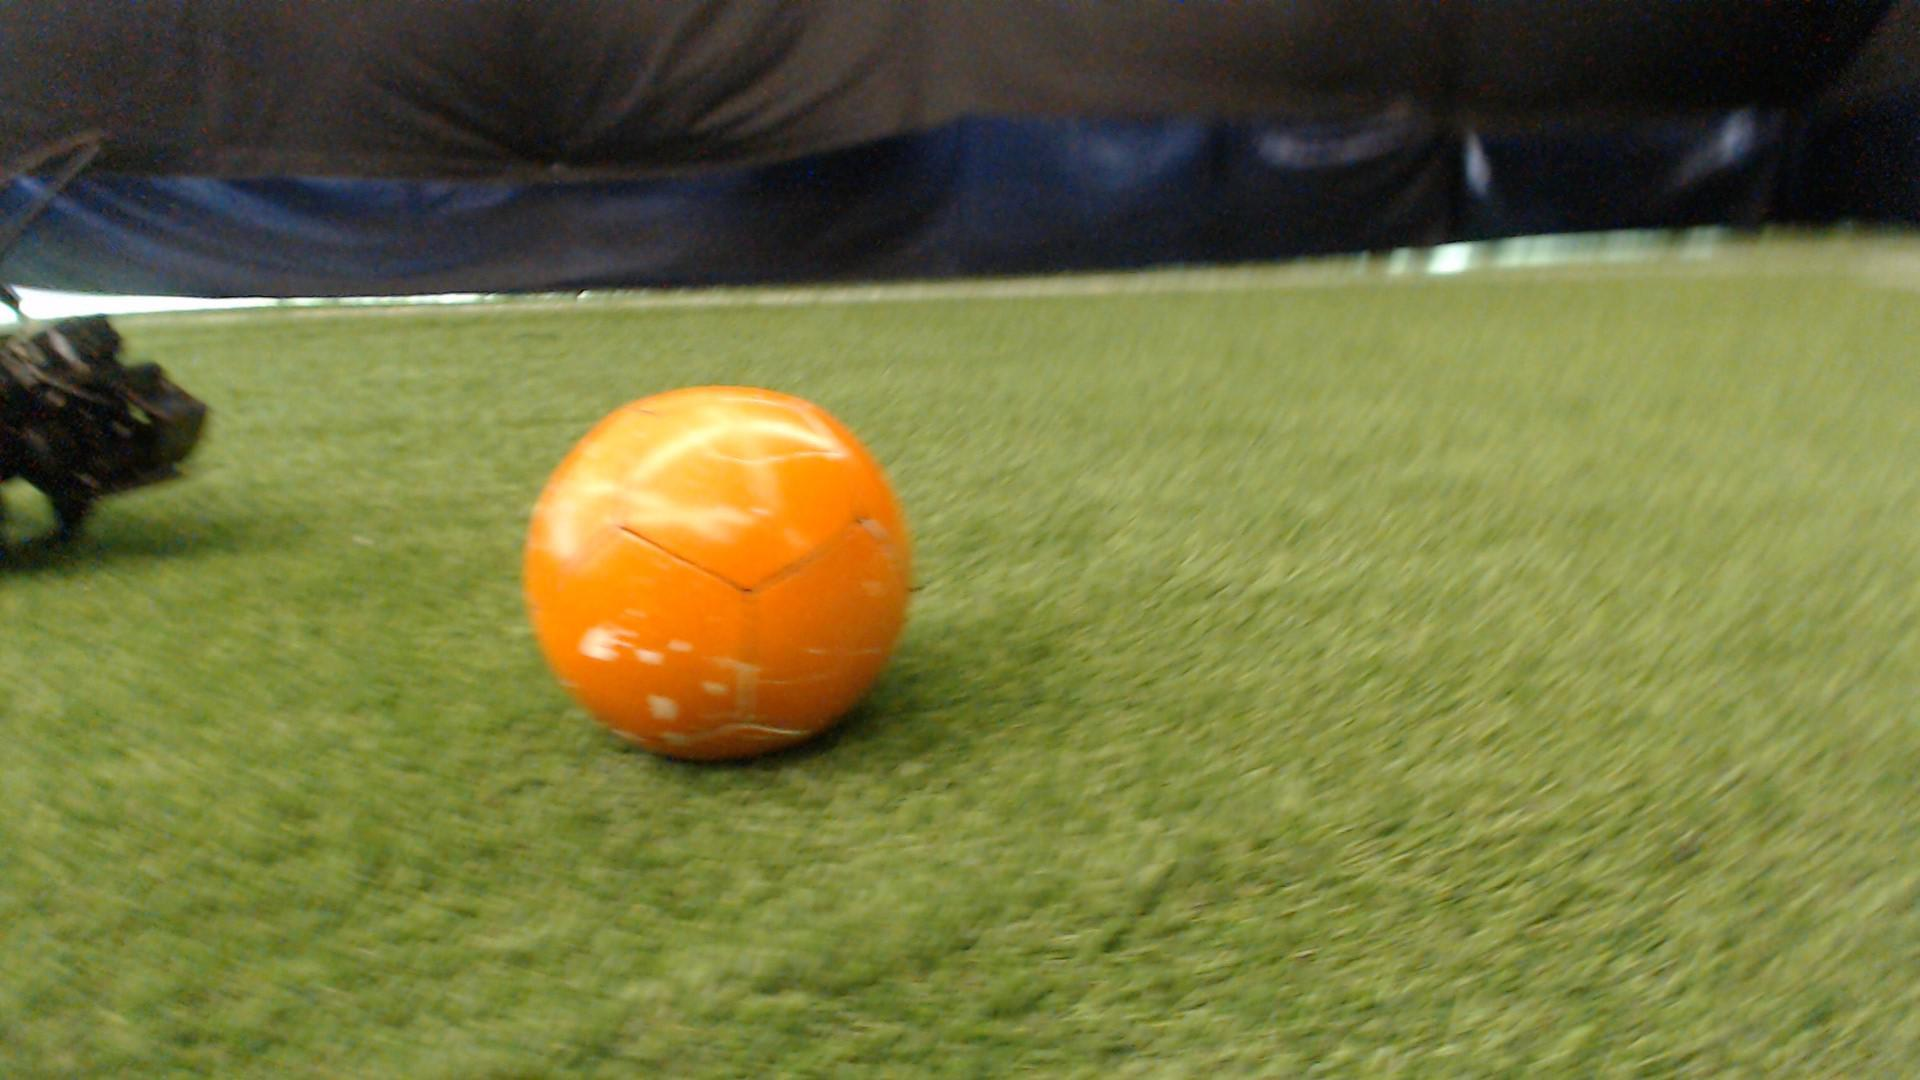bola: (514, 356, 945, 798)
